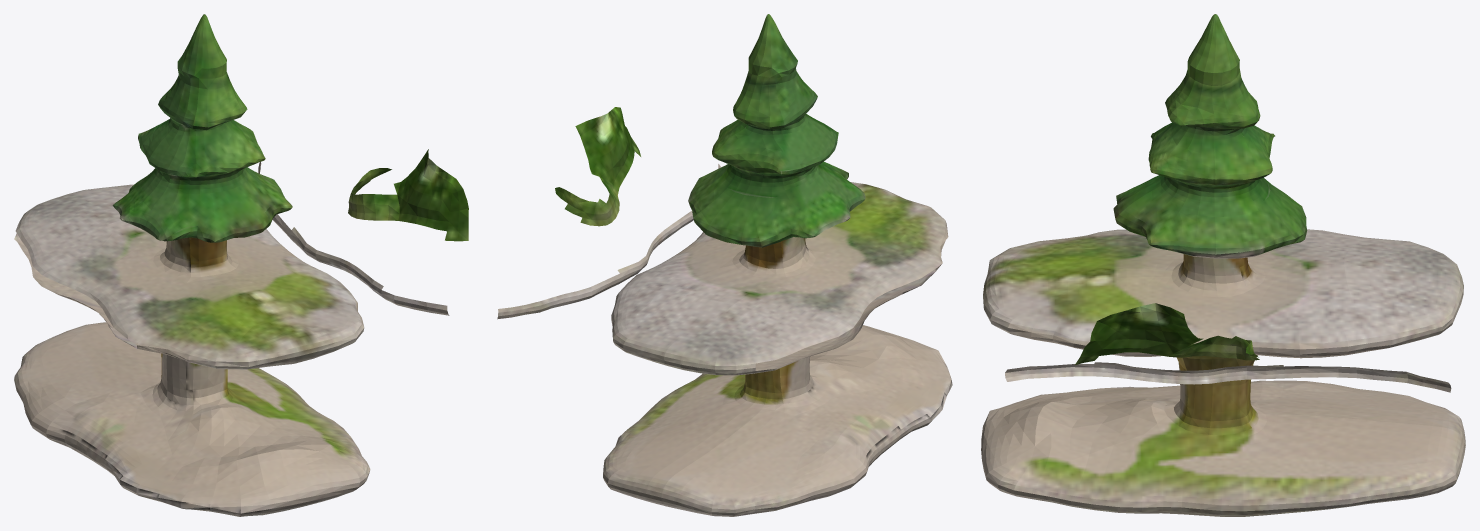
File: tree0.glb
The picture shows the model from 3 angles, left to right: view 1: azimuth 30°, elevation 25°; view 2: azimuth 150°, elevation 25°; view 3: azimuth 270°, elevation 25°; orthographic projection. The views are drawn at different scales.
Visible parts, largest first — view 1: geometry_0; view 2: geometry_0; view 3: geometry_0.
Boxes of the visible parts, <box> form: geometry_0: <box>14,14,468,516</box>; geometry_0: <box>497,14,952,516</box>; geometry_0: <box>981,14,1465,516</box>.
Size of the model in its own units: 0.611 by 0.7314 by 0.6966.
Materials: 1 (1 with a texture image).
